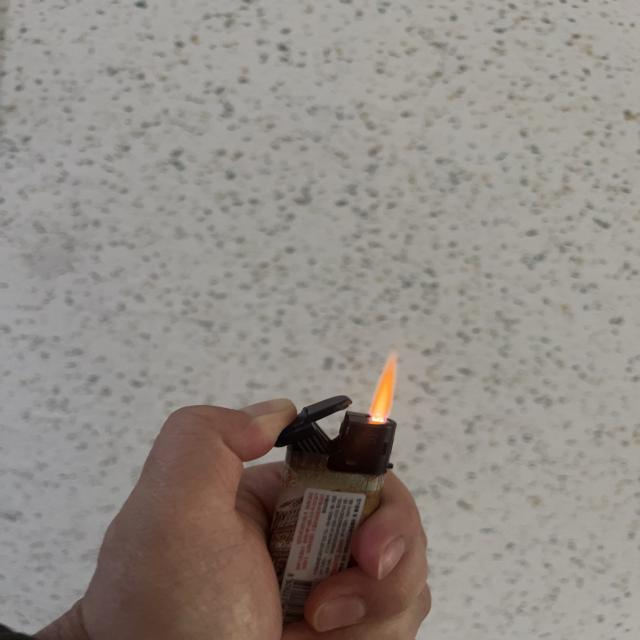fire: (367, 350, 400, 416)
